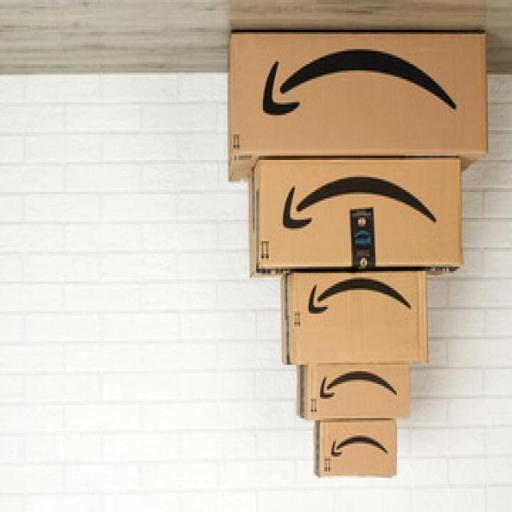Amazon: (227, 31, 491, 171), (245, 157, 467, 272), (279, 271, 431, 366), (296, 363, 412, 422), (313, 420, 401, 480)
